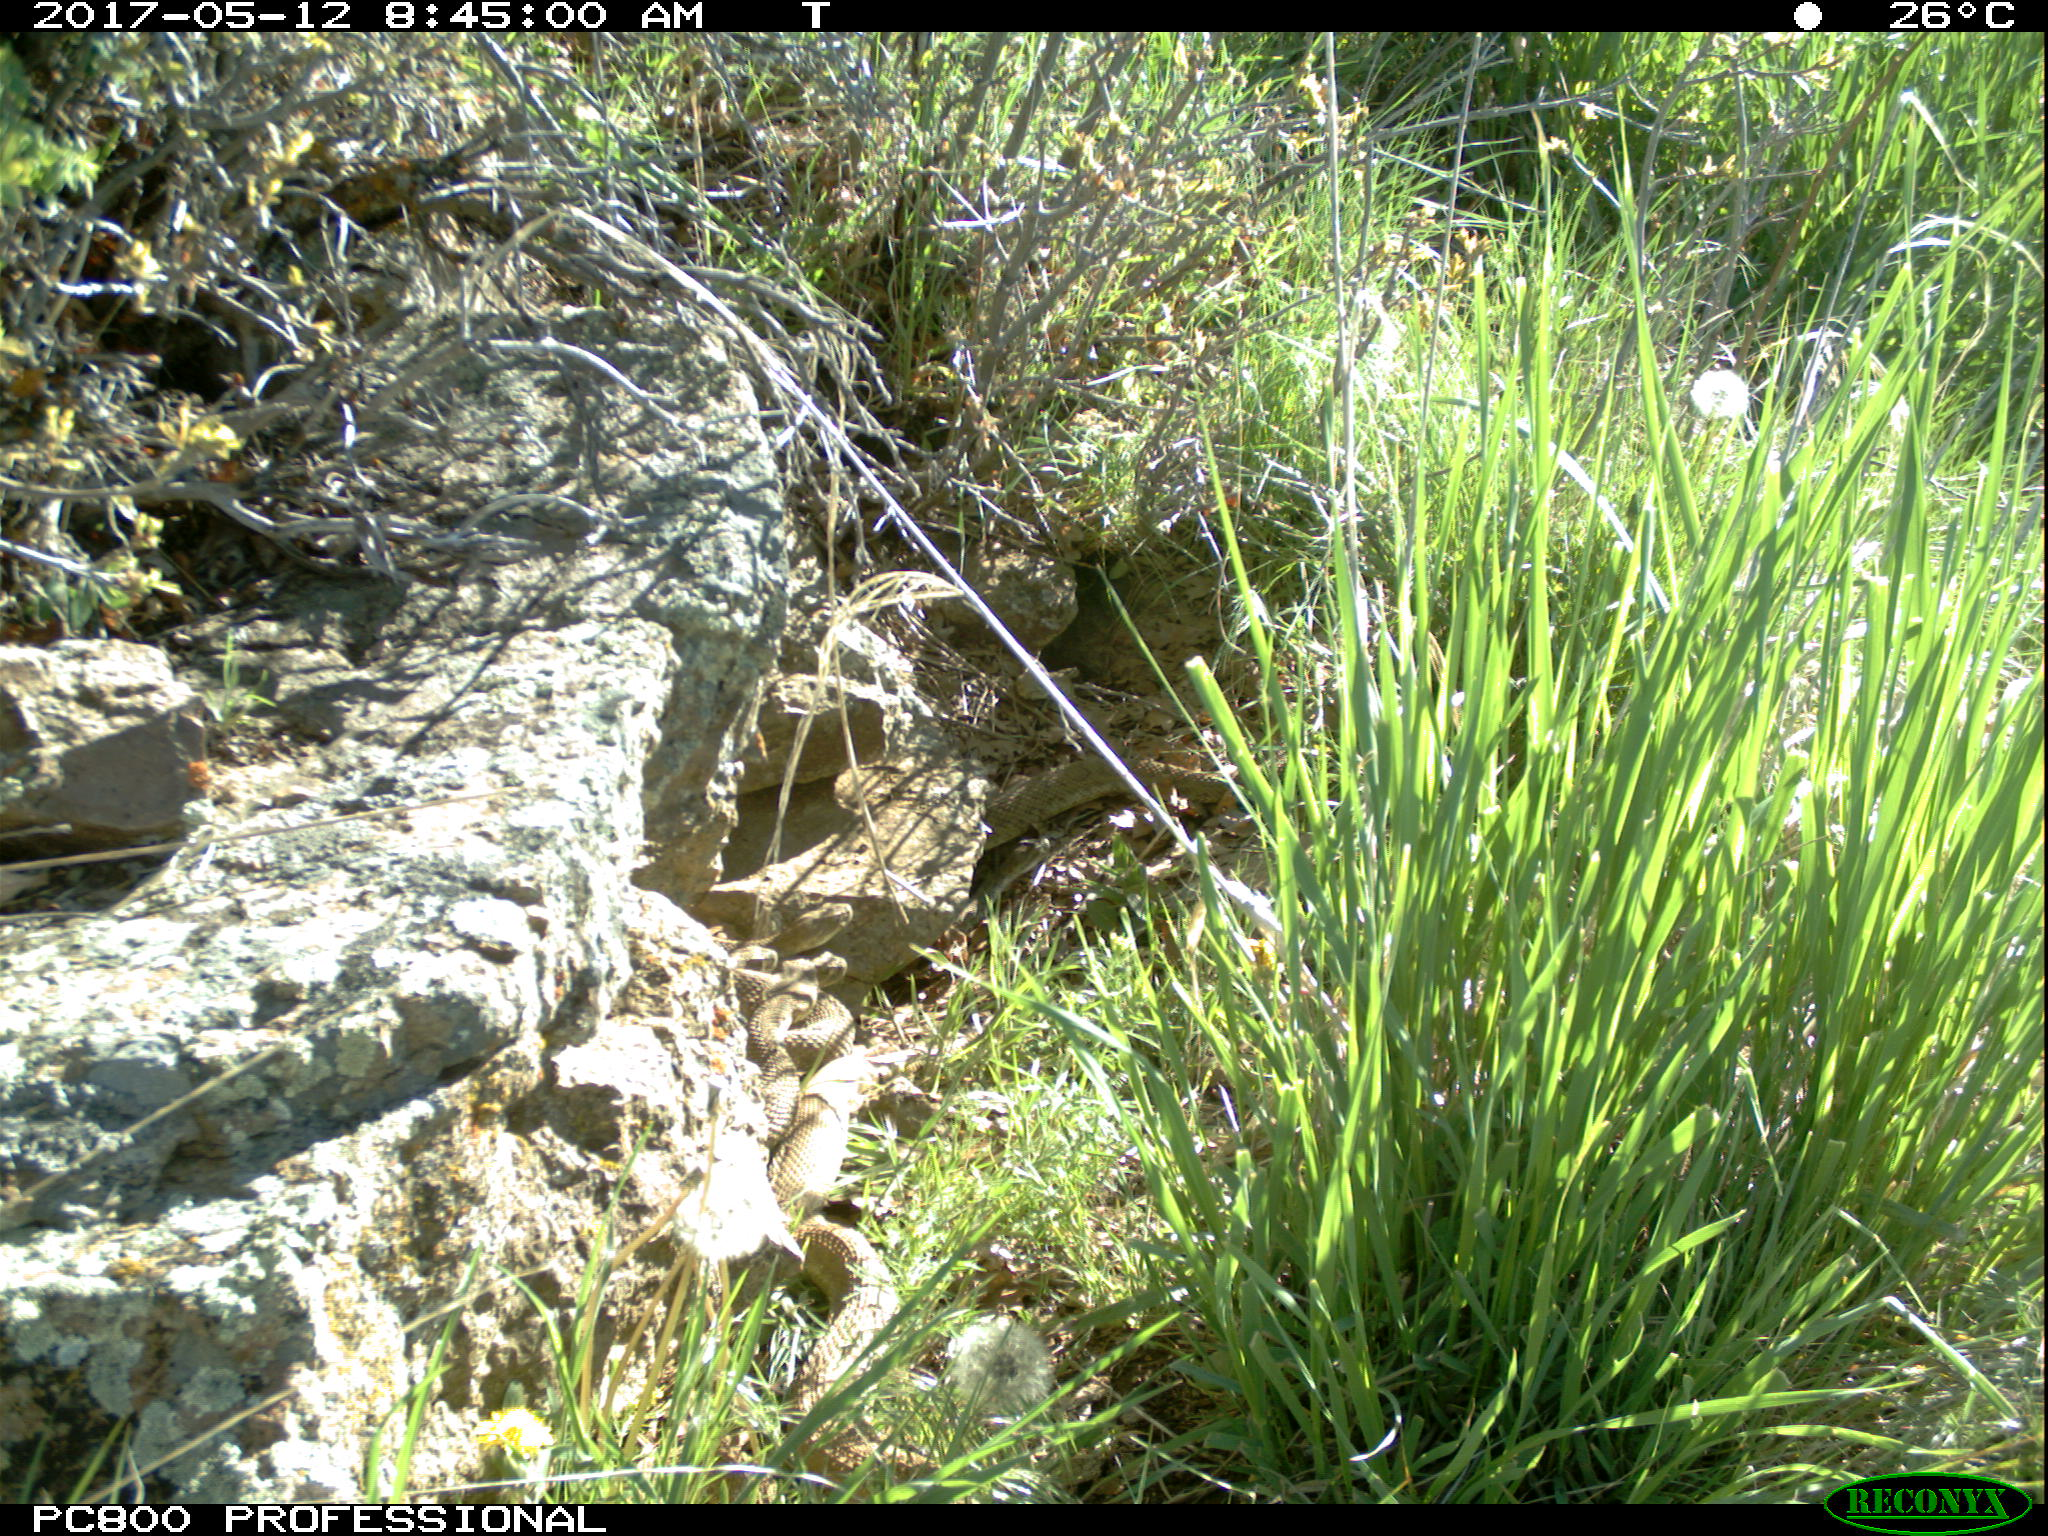snake: (789, 1213, 922, 1492), (976, 753, 1243, 844), (731, 900, 860, 1057), (768, 1033, 868, 1215), (755, 955, 798, 1141)
